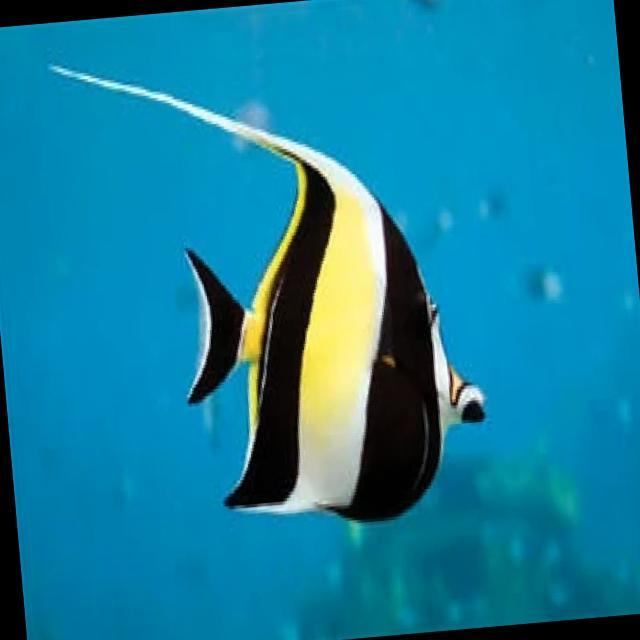MorishIdol: (46, 21, 496, 549)
